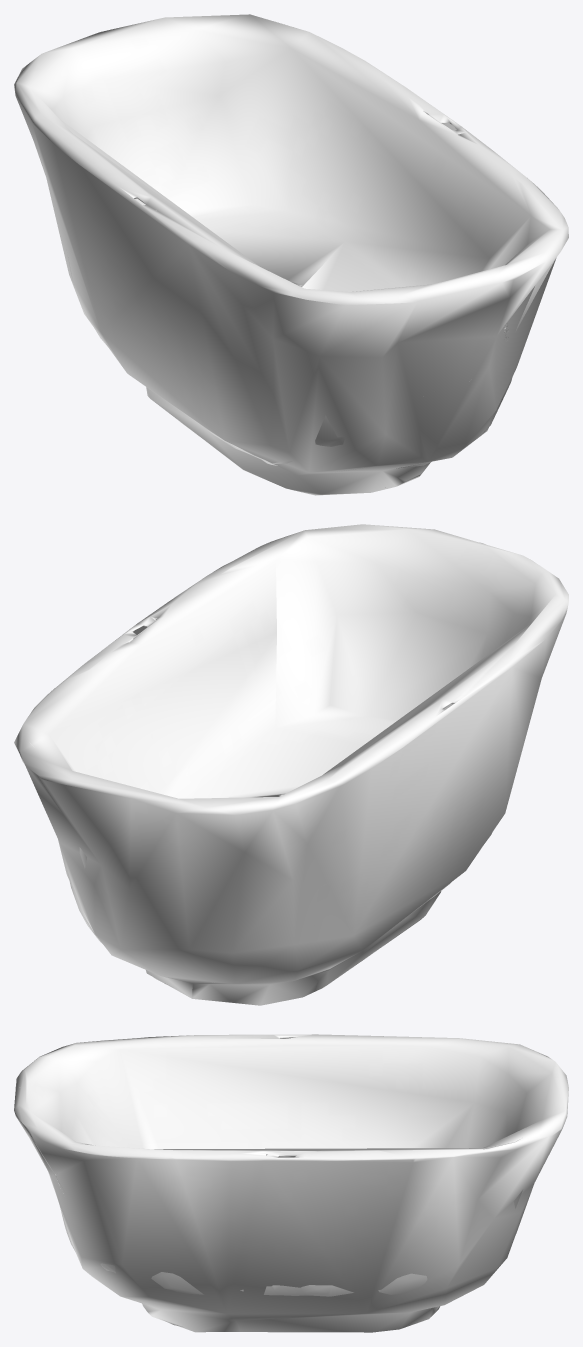
File: bathtub.glb
The picture shows the model from 3 angles, top to bottom: view 1: azimuth 30°, elevation 25°; view 2: azimuth 150°, elevation 25°; view 3: azimuth 270°, elevation 25°; orthographic projection. The views are drawn at different scales.
Parts seen in each view (by area): view 1: geometry_0; view 2: geometry_0; view 3: geometry_0.
Part boxes in pixels (x1=…): geometry_0: x1=14, y1=14, x2=568, y2=495; geometry_0: x1=14, y1=524, x2=568, y2=1005; geometry_0: x1=14, y1=1034, x2=568, y2=1332.
Bounding box in the file's own units: 0.532 × 0.4187 × 1.
1 material, 1 textured.
